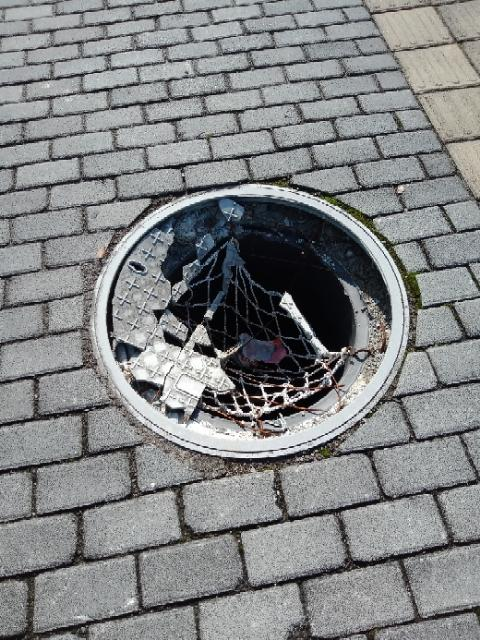broke: (72, 162, 436, 480)
